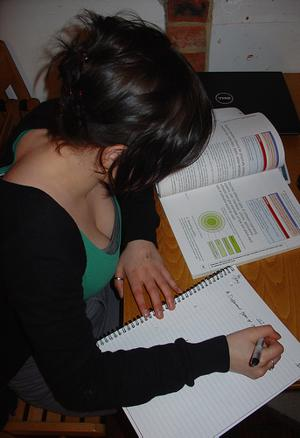person: (2, 17, 283, 416)
